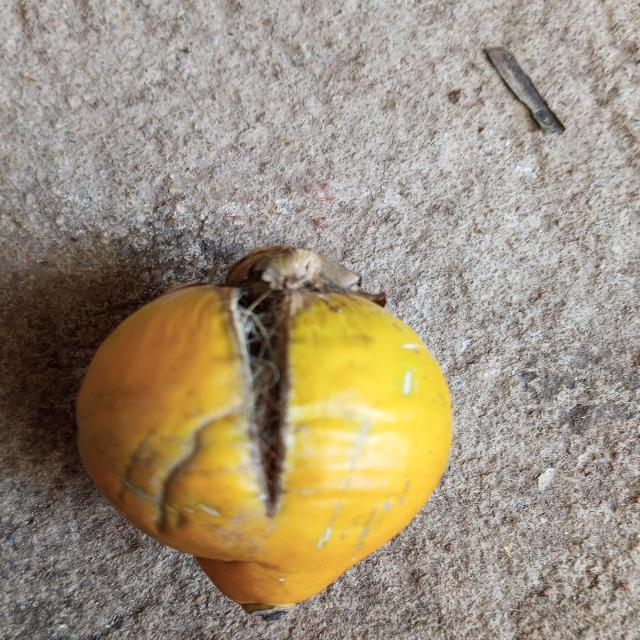damaged: (77, 245, 452, 619)
